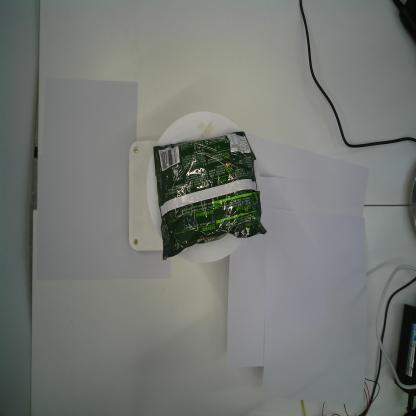Instant Noodles: (151, 130, 269, 261)
